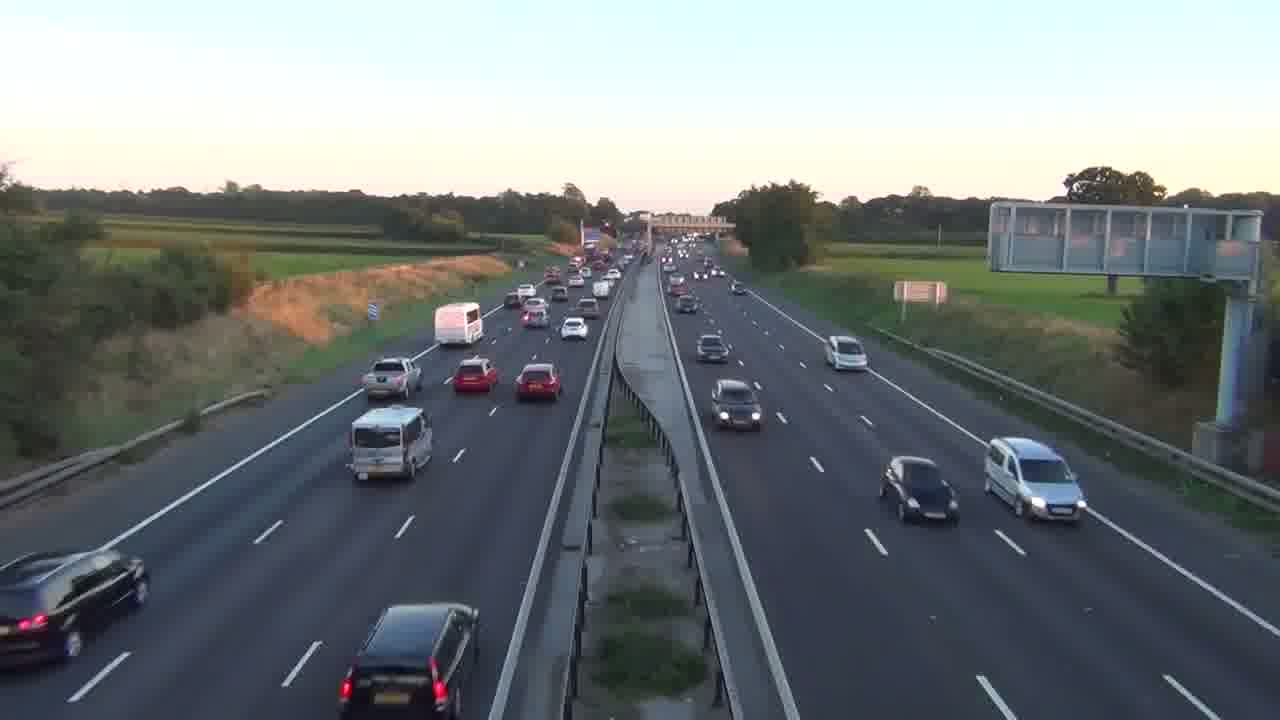car: (0, 547, 151, 668), (337, 601, 481, 718), (880, 455, 961, 524), (710, 377, 764, 432), (362, 357, 411, 402), (513, 363, 562, 402), (451, 356, 500, 393), (696, 333, 729, 363), (559, 316, 589, 341)
truck: (0, 547, 151, 668), (983, 435, 1087, 524), (344, 403, 434, 482), (433, 302, 482, 346)
